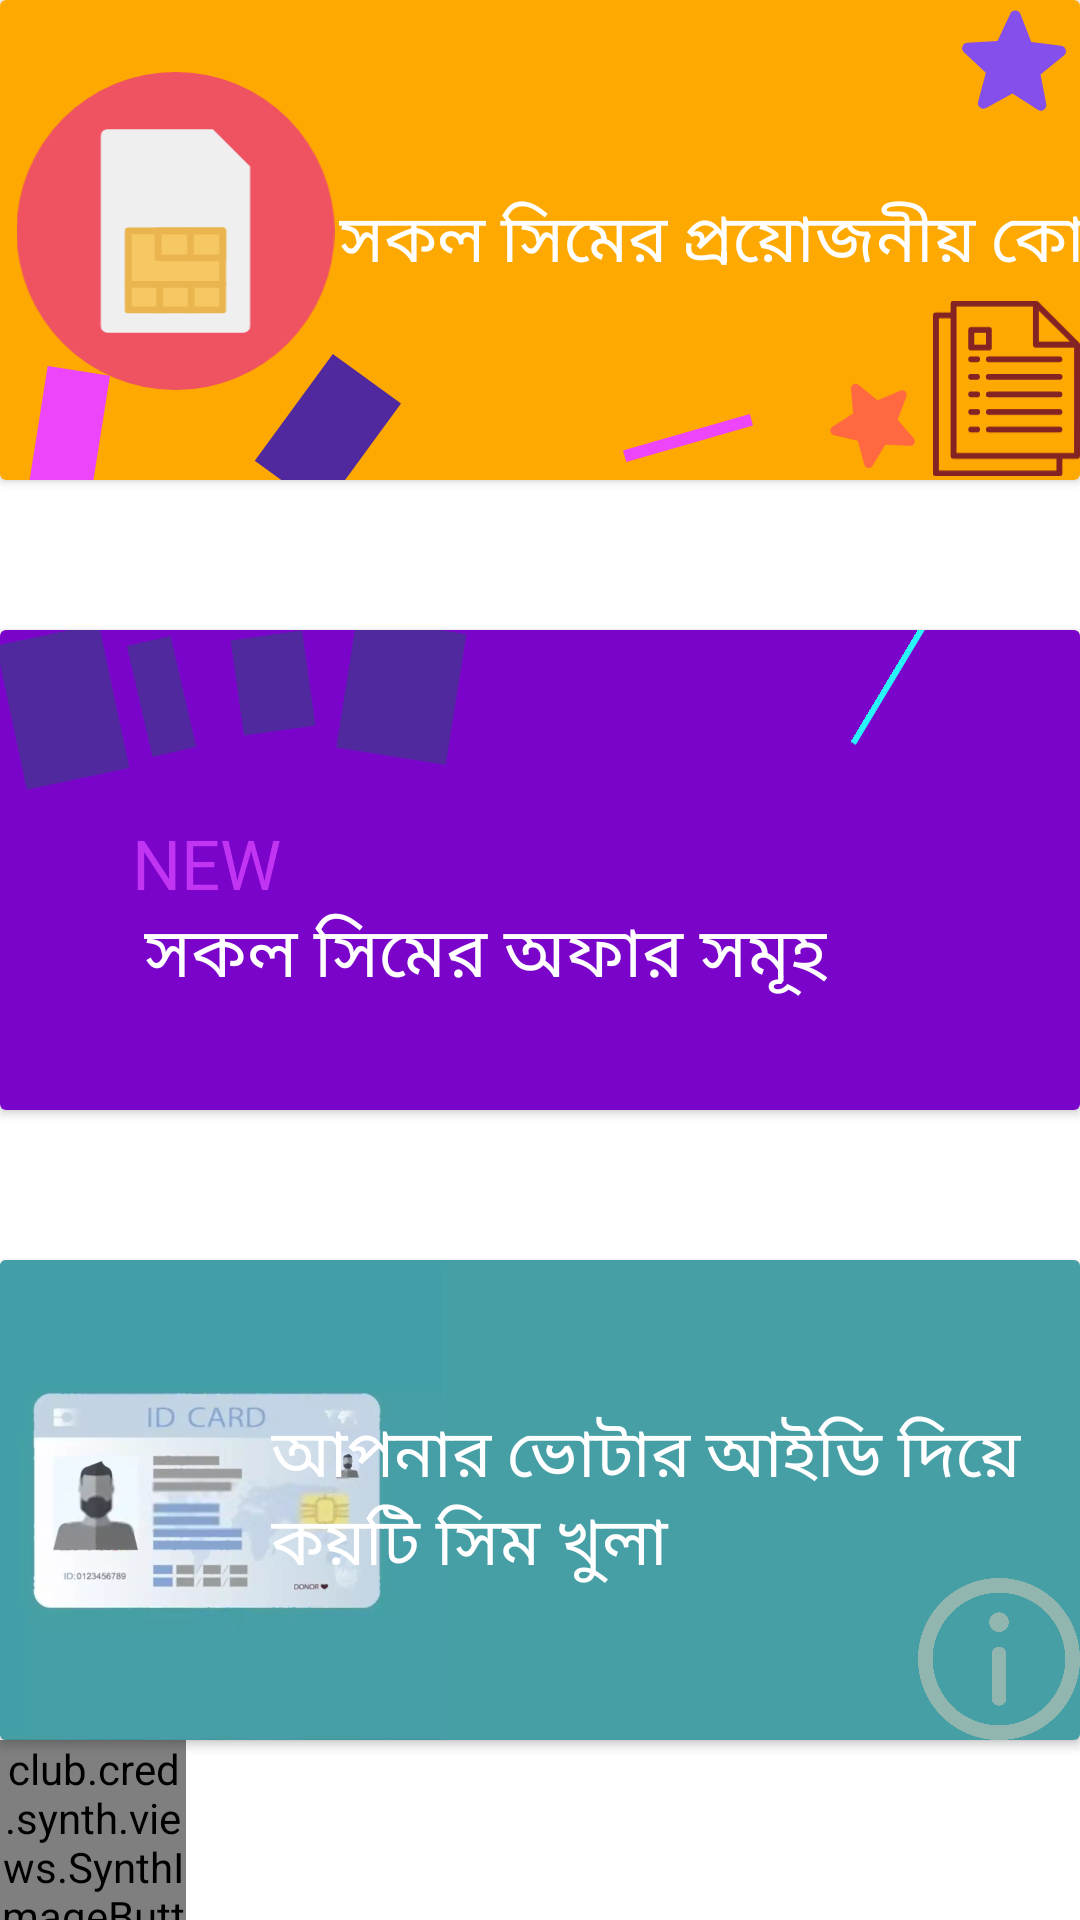

Icons on this 1080w x 1920h Android screen, each with the point to tap as [x,y]:
information: [999,1659]
notice: [1006,388]
sim: [178,231]
star: [1021,55], [872,426]
